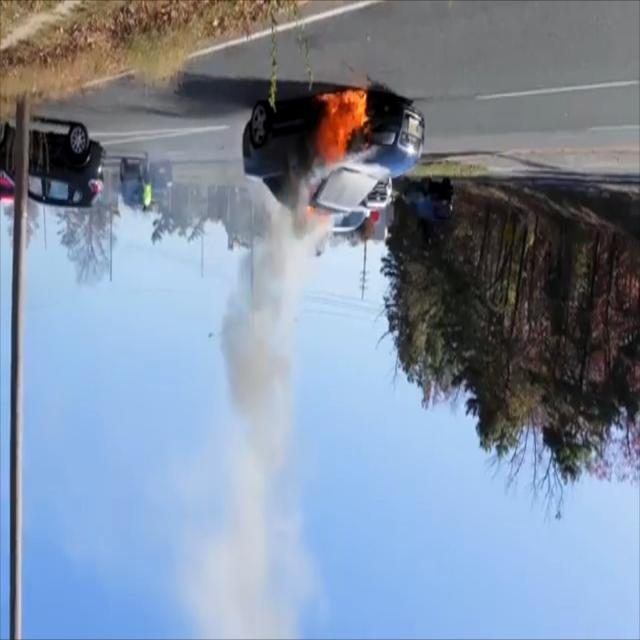fire: (298, 80, 372, 235)
